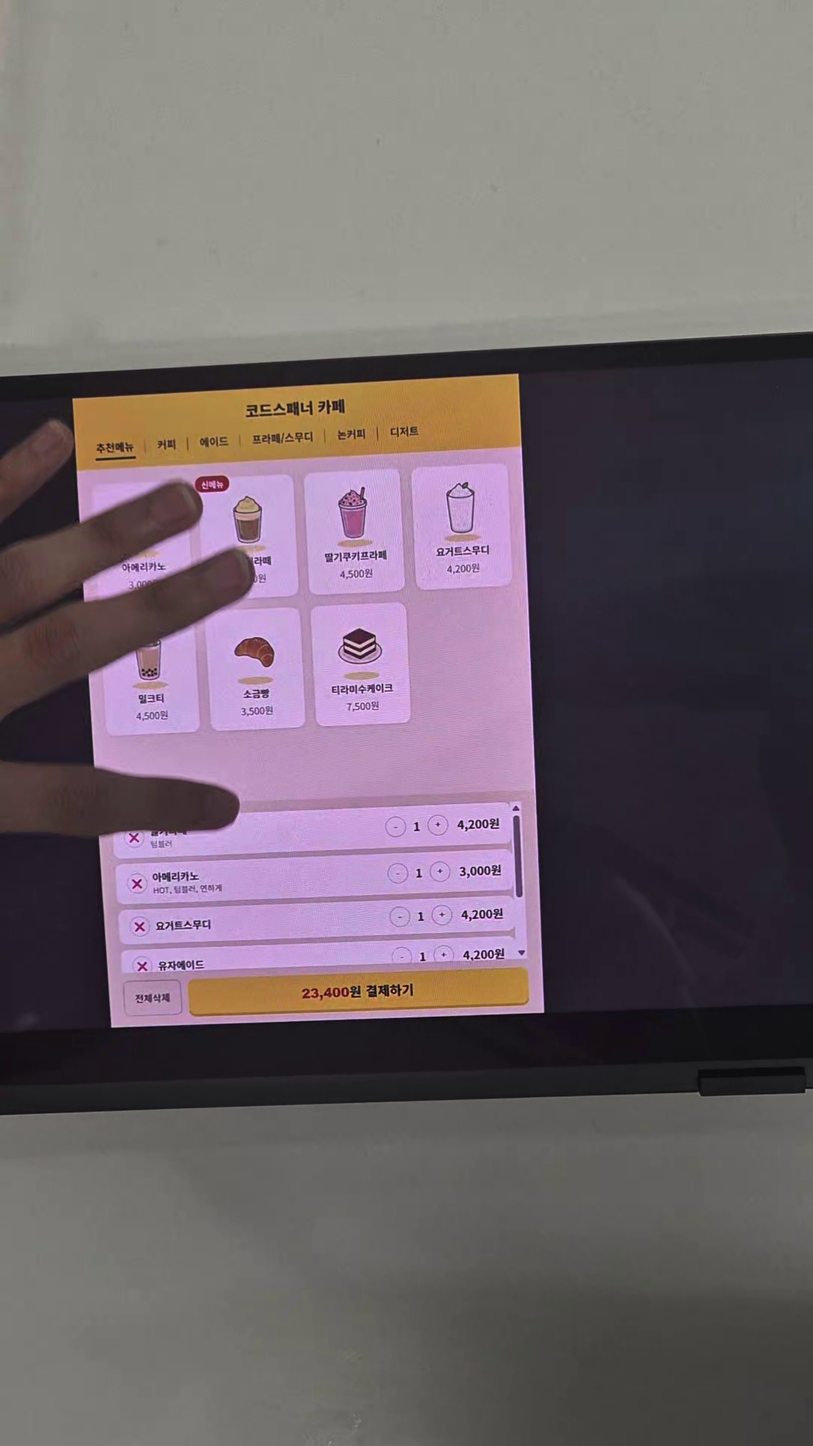action_button: (188, 967, 529, 1016), (123, 979, 182, 1016)
cart_item: (112, 802, 511, 859), (116, 849, 514, 905), (119, 895, 515, 945), (121, 936, 516, 973)
category_tab: (252, 431, 314, 446), (95, 440, 135, 455), (200, 435, 229, 448), (337, 428, 366, 441), (390, 425, 419, 437), (157, 438, 176, 451)
menu_back: (197, 474, 299, 603), (412, 463, 513, 591), (99, 611, 201, 736), (204, 607, 306, 731), (305, 469, 405, 595), (312, 602, 411, 726)
menu_name: (324, 549, 388, 564), (330, 682, 394, 695), (435, 545, 490, 557), (137, 693, 165, 705), (242, 688, 270, 700)
menu_price: (136, 710, 169, 723), (240, 705, 275, 717), (345, 700, 380, 712), (446, 563, 480, 575), (339, 568, 374, 579)
